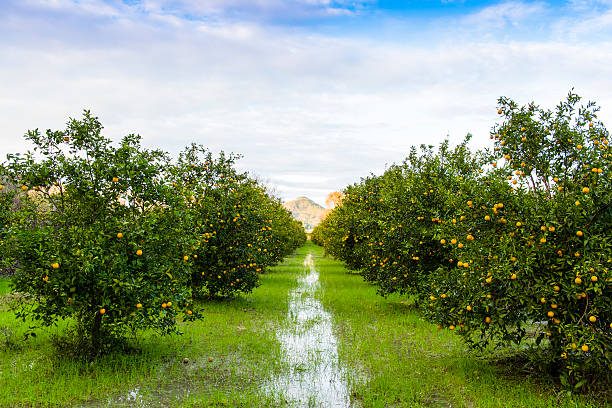orange: (574, 291, 582, 301), (588, 315, 597, 323), (553, 284, 561, 292), (570, 341, 578, 349), (484, 315, 492, 323), (449, 236, 457, 244), (98, 307, 107, 314), (548, 310, 557, 317), (582, 343, 589, 352), (551, 316, 560, 323), (548, 225, 556, 232), (485, 270, 493, 277), (591, 274, 598, 282), (574, 277, 582, 284), (448, 323, 455, 331), (112, 176, 119, 183), (135, 248, 142, 255), (33, 184, 40, 191), (439, 238, 446, 245), (467, 199, 474, 206), (497, 201, 504, 208), (510, 272, 517, 279), (551, 301, 558, 308), (457, 242, 464, 249), (583, 186, 590, 193), (582, 162, 589, 169), (540, 236, 547, 243), (508, 230, 515, 237), (441, 292, 448, 299), (597, 166, 603, 174), (581, 290, 587, 298), (116, 232, 123, 238), (52, 262, 58, 269), (135, 302, 142, 308), (160, 302, 167, 308), (21, 184, 27, 191), (484, 214, 490, 221), (515, 221, 522, 227), (541, 224, 547, 231), (576, 230, 583, 236), (557, 249, 563, 256), (574, 250, 580, 257), (511, 255, 517, 262), (540, 297, 547, 303), (561, 351, 567, 358), (485, 277, 492, 283), (456, 260, 463, 266), (462, 261, 469, 267), (460, 214, 467, 220), (553, 175, 559, 182), (574, 200, 581, 206), (576, 143, 582, 150), (591, 167, 598, 173), (588, 266, 595, 272), (429, 294, 435, 301), (520, 125, 526, 132), (62, 135, 68, 141), (41, 275, 47, 281), (187, 309, 193, 315), (208, 272, 214, 278), (466, 304, 472, 310), (469, 258, 475, 264), (466, 234, 472, 240), (469, 235, 475, 241), (557, 185, 563, 191), (507, 174, 513, 180), (515, 170, 521, 176), (521, 136, 527, 142), (544, 127, 550, 133), (588, 121, 594, 127), (494, 145, 500, 151), (182, 255, 189, 260), (166, 301, 173, 306), (593, 139, 598, 146), (184, 301, 189, 307), (235, 277, 241, 282), (216, 274, 222, 279), (200, 270, 205, 276), (512, 179, 518, 184), (497, 108, 502, 114), (553, 123, 559, 128), (416, 215, 421, 221), (419, 215, 425, 220), (192, 253, 197, 258), (229, 282, 234, 287), (231, 266, 236, 271), (222, 269, 227, 274), (492, 162, 497, 167), (392, 276, 397, 281), (247, 242, 251, 247), (256, 247, 261, 251), (262, 248, 267, 252), (428, 189, 433, 193), (403, 273, 407, 277)
